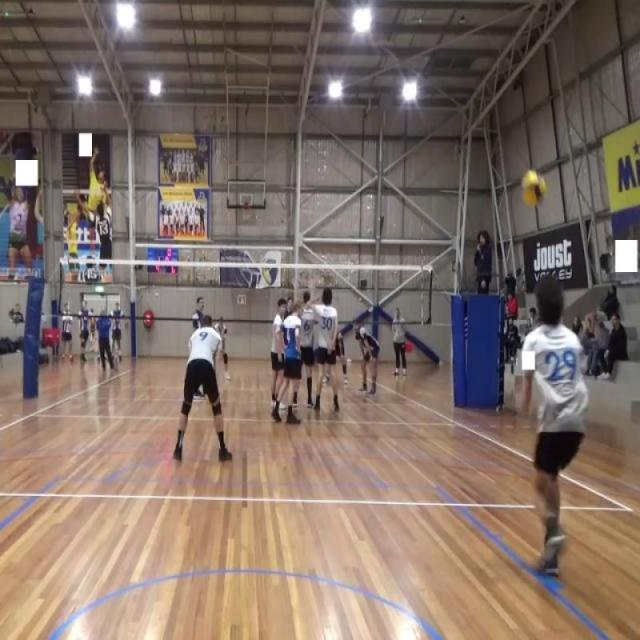volleyball: (521, 170, 548, 210)
